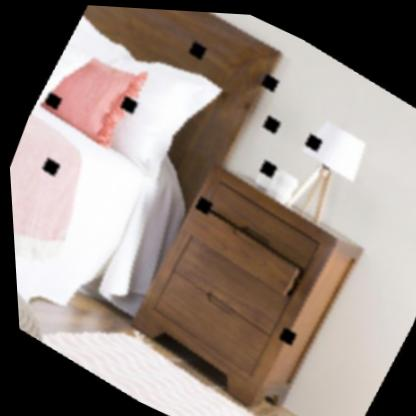Lamp: (277, 101, 376, 219)
Nightstand: (122, 155, 358, 416)
